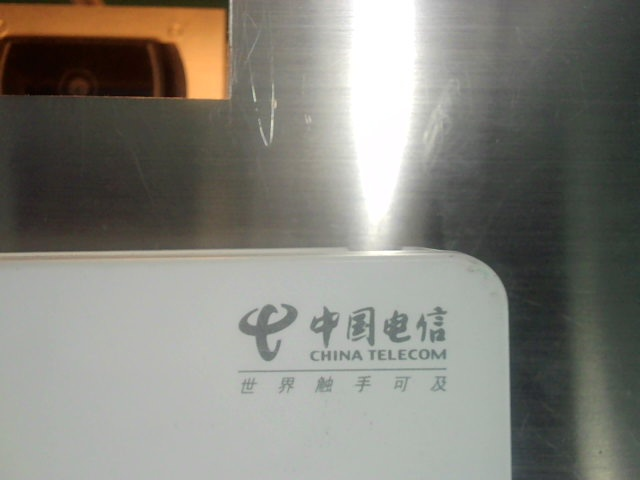AB_ChinaTelecom: (215, 297, 464, 402)
